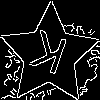K: (24, 29, 70, 84)
